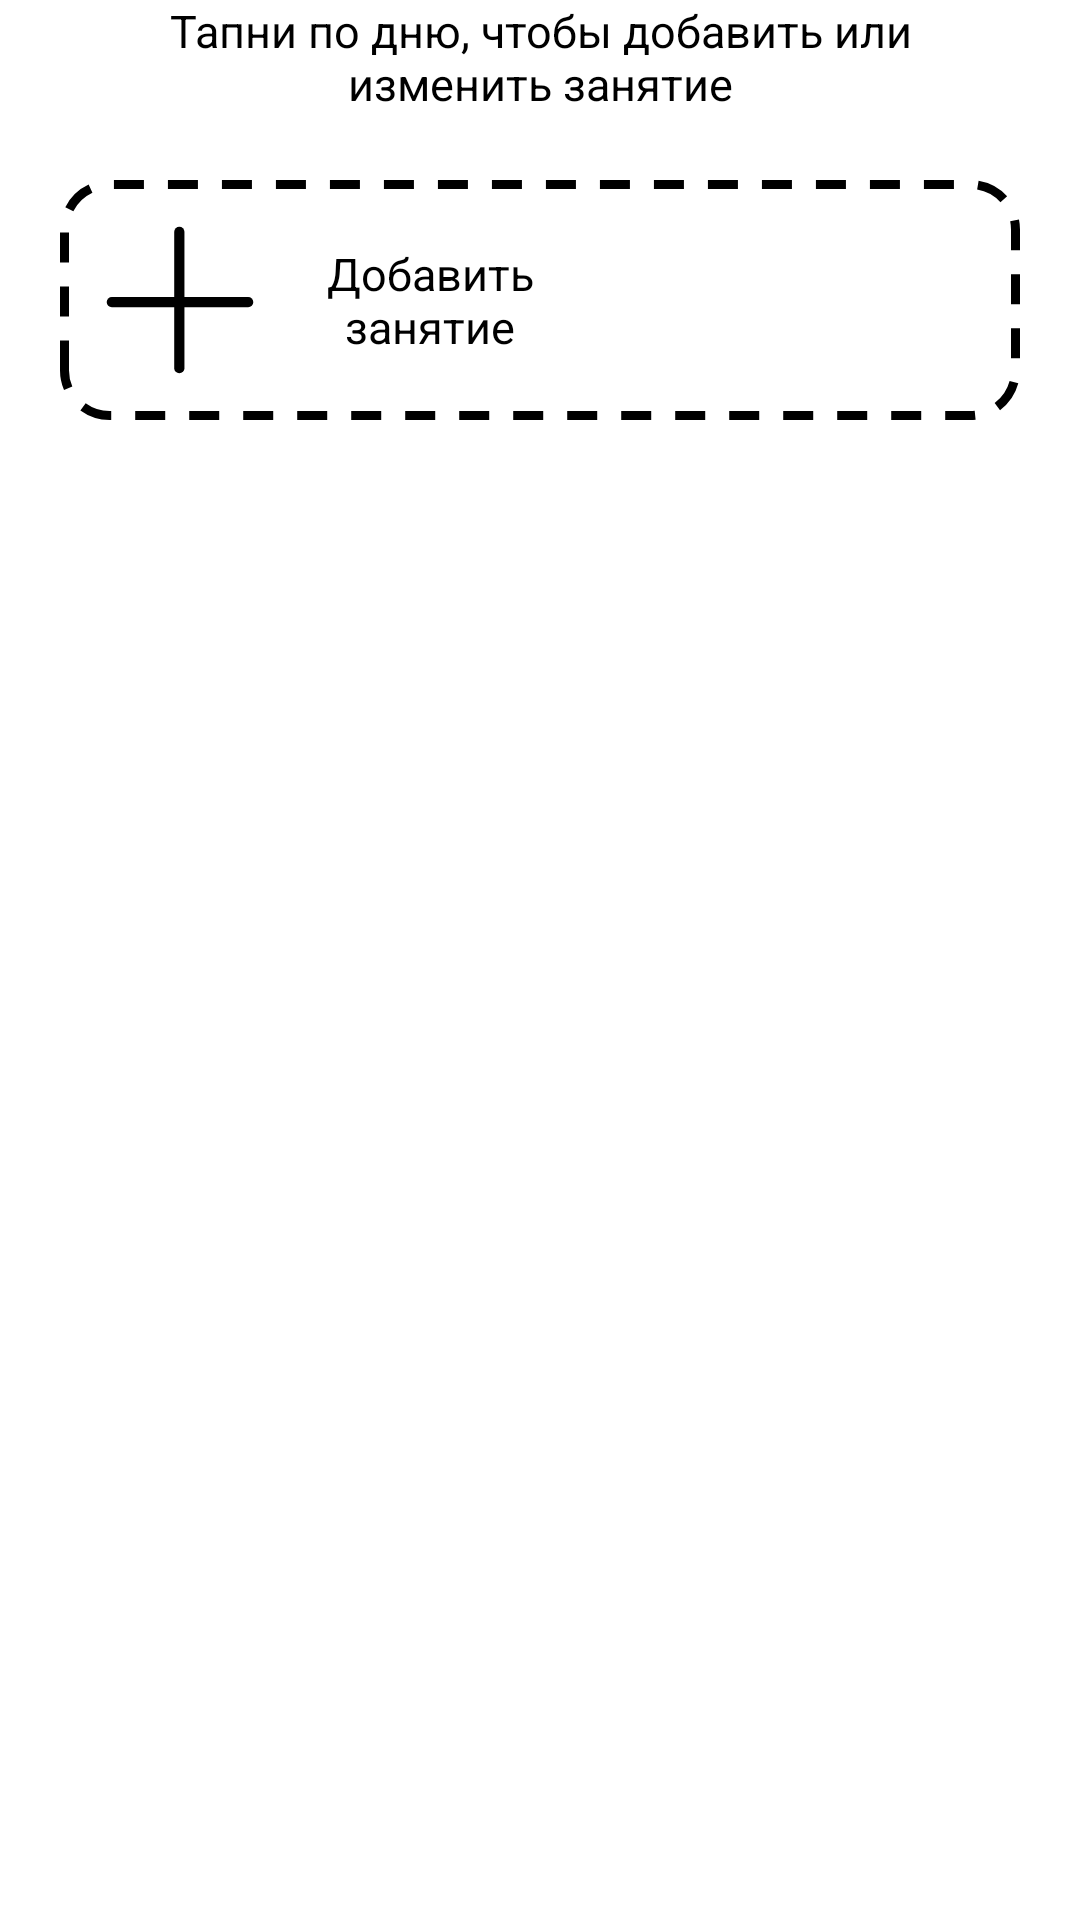

Screen size 1080px x 1920px. Icon name, then its box in pixels as BBox(x1, y1, x2, y2):
add: BBox(106, 226, 254, 374)
